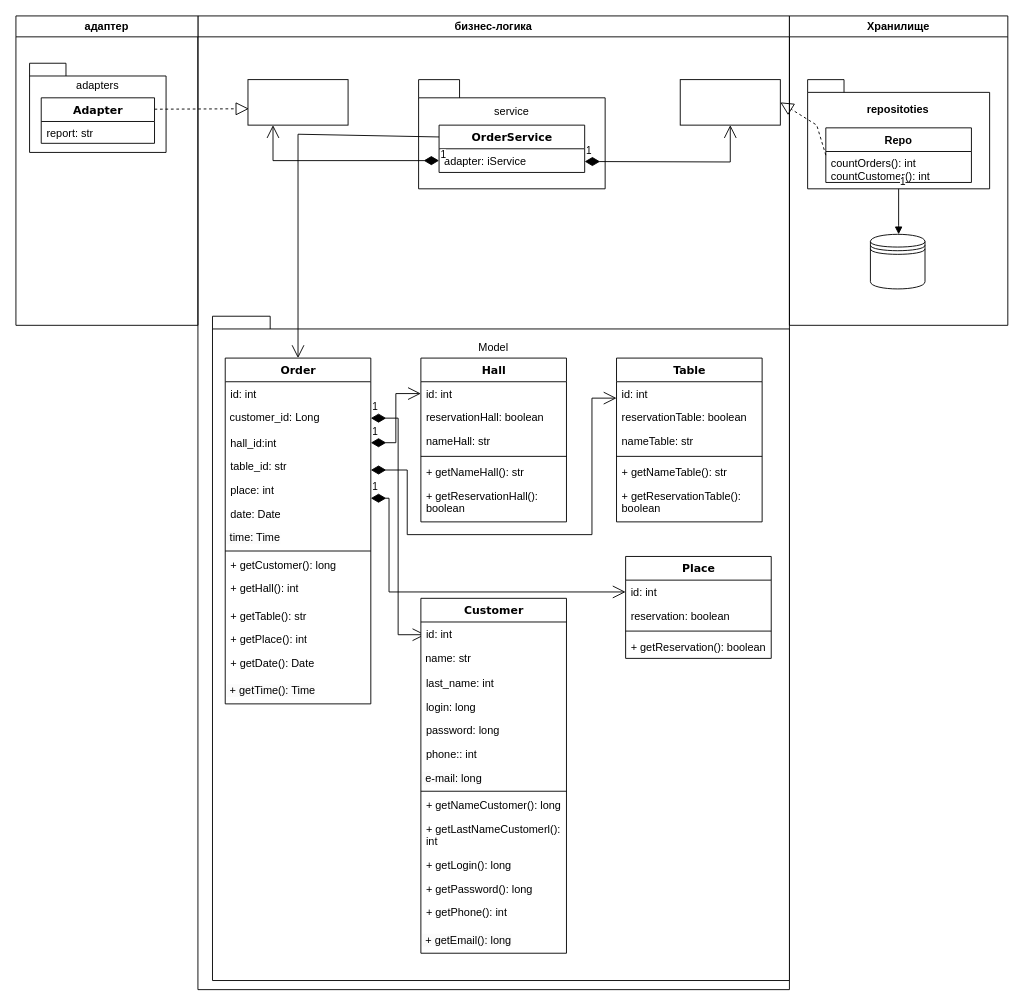
This 1024x1006 diagram has some shape labels left out. Each missing label, with the centre of its shape:
«interface» iRepo: pixel 729 102
«interface» iService: pixel 297 102
